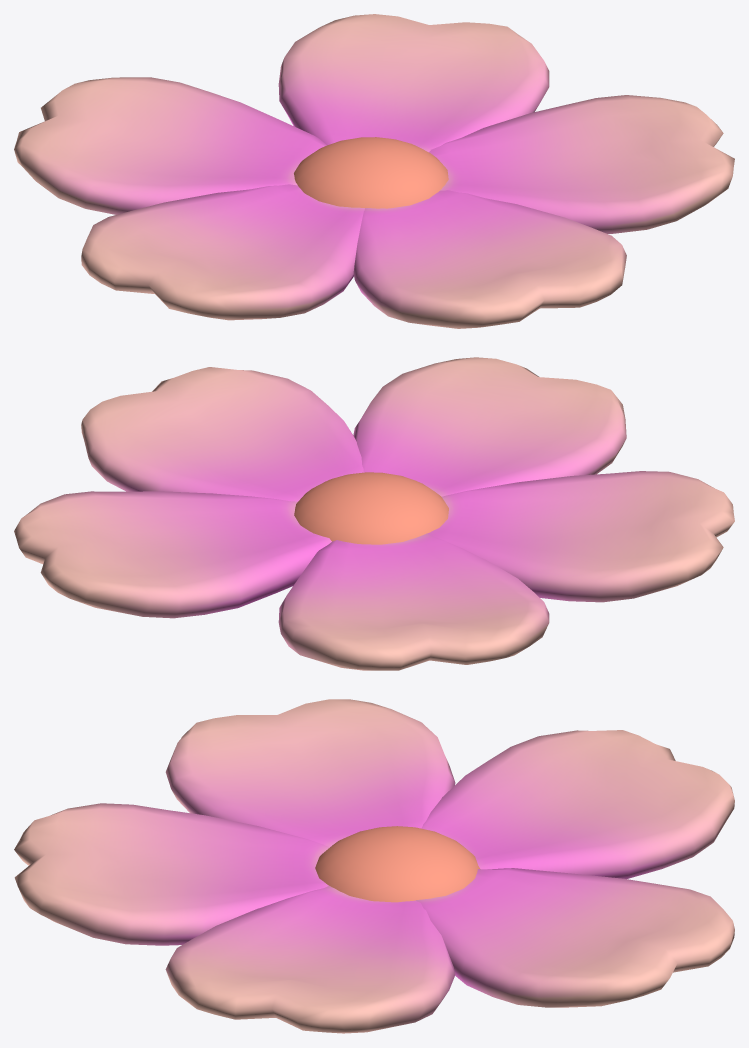
File: hoa5.fbx
3 renders of one model, top to bottom at view 1: azimuth 30°, elevation 25°; view 2: azimuth 150°, elevation 25°; view 3: azimuth 270°, elevation 25°, orthographic. The views are drawn at different scales.
Parts seen in each view (by area): view 1: polySurface41, polySurface78, polySurface79, polySurface42, polySurface39, polySurface38; view 2: polySurface42, polySurface79, polySurface41, polySurface39, polySurface78, polySurface38; view 3: polySurface78, polySurface42, polySurface39, polySurface41, polySurface79, polySurface38.
Boxes of the visible parts, x1=… form: polySurface41: x1=429, y1=95, x2=734, y2=233; polySurface78: x1=14, y1=77, x2=326, y2=214; polySurface79: x1=81, y1=184, x2=364, y2=320; polySurface42: x1=278, y1=14, x2=549, y2=152; polySurface39: x1=353, y1=190, x2=626, y2=328; polySurface38: x1=294, y1=137, x2=448, y2=208; polySurface42: x1=14, y1=491, x2=331, y2=618; polySurface79: x1=428, y1=471, x2=734, y2=602; polySurface41: x1=81, y1=367, x2=363, y2=501; polySurface39: x1=353, y1=357, x2=626, y2=496; polySurface78: x1=278, y1=533, x2=549, y2=670; polySurface38: x1=294, y1=472, x2=448, y2=544; polySurface78: x1=421, y1=730, x2=734, y2=878; polySurface42: x1=416, y1=868, x2=734, y2=1007; polySurface39: x1=14, y1=803, x2=329, y2=945; polySurface41: x1=165, y1=886, x2=455, y2=1033; polySurface79: x1=165, y1=699, x2=455, y2=846; polySurface38: x1=315, y1=826, x2=479, y2=902.
Bounding box in the file's own units: 78.23 × 10.8 × 74.95.
Materials: 1 (1 with a texture image).
